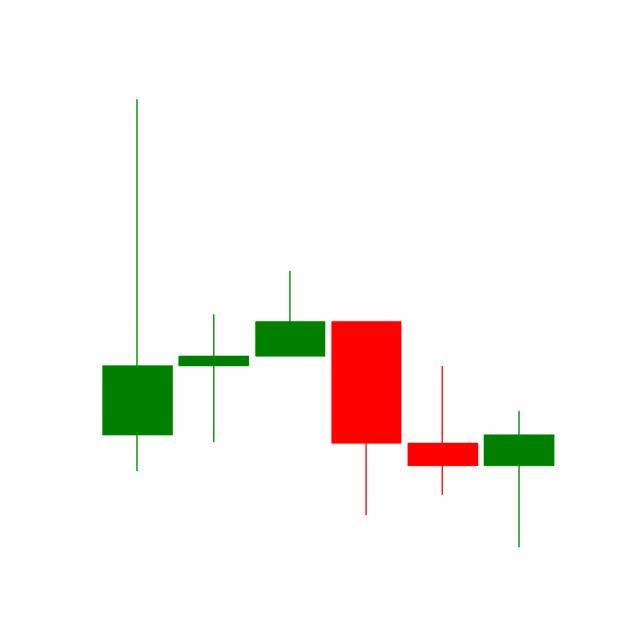Spinning Top: (404, 365, 482, 497)
